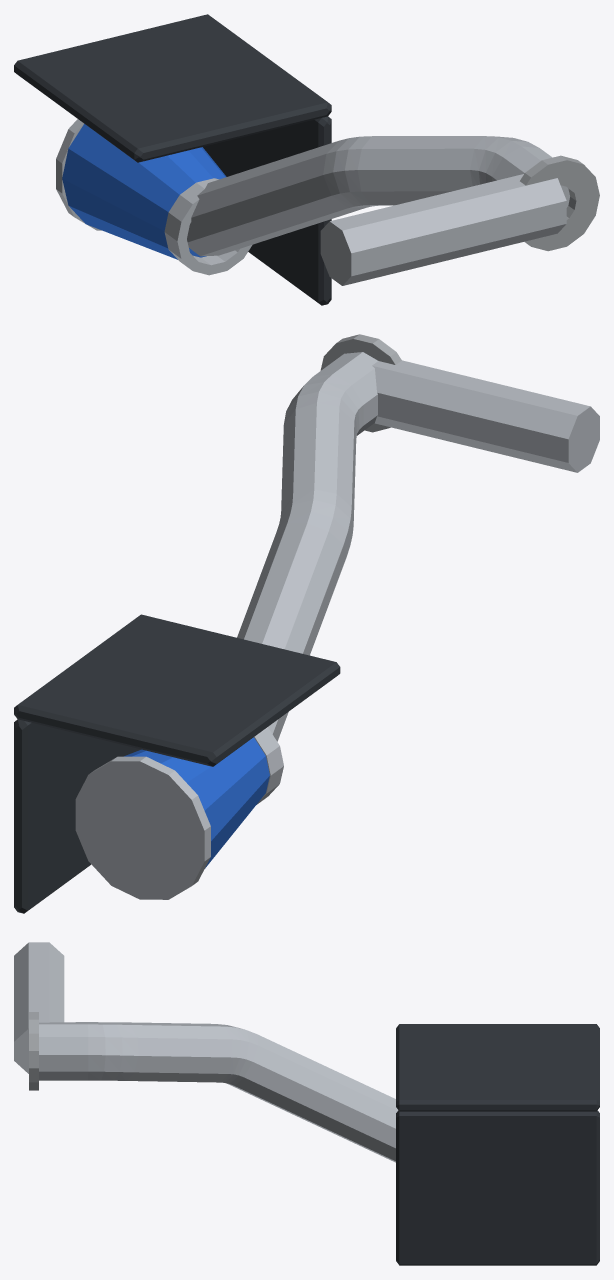
File: apex_v8.glb
The picture shows the model from 3 angles, top to bottom: view 1: azimuth 30°, elevation 25°; view 2: azimuth 150°, elevation 25°; view 3: azimuth 270°, elevation 25°; orthographic projection. The views are drawn at different scales.
Parts seen in each view (by area): view 1: model; view 2: model; view 3: model.
Boxes of the visible parts, x1,y1,x2,y2 form: model: [14, 14, 599, 305]; model: [14, 334, 599, 913]; model: [14, 942, 599, 1265].
Size of the model in its own units: 0.2872 by 0.326 by 0.6896.
Materials: 2 (1 with a texture image).
